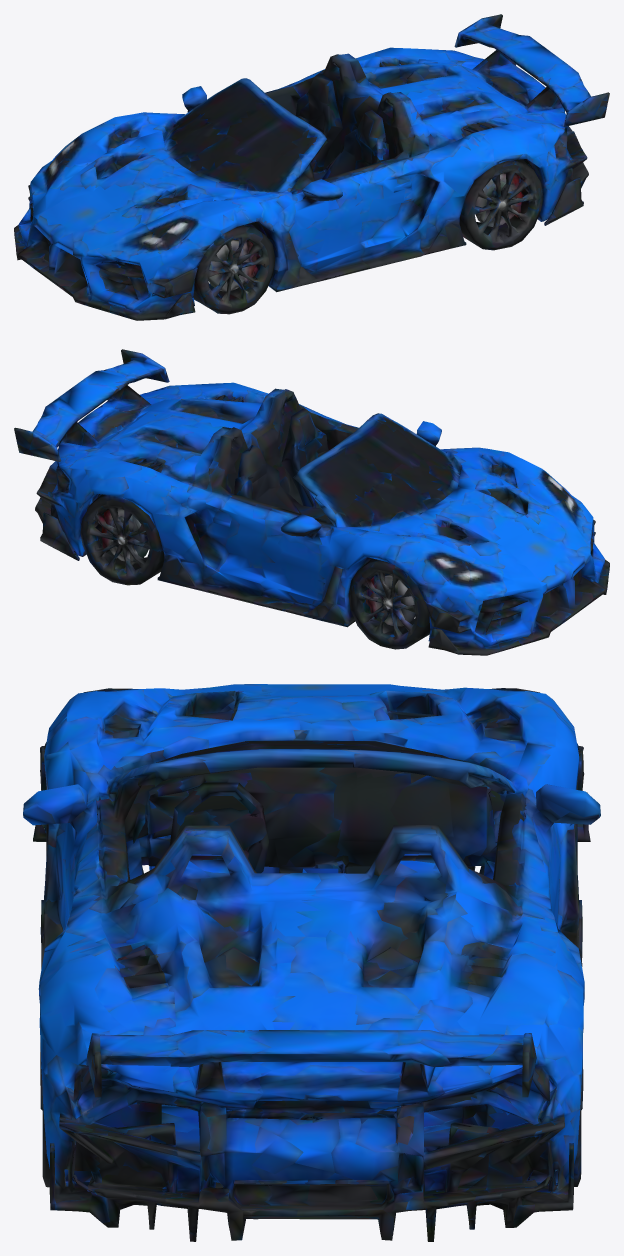
File: lamborghini-kuia-spyder.glb
3 views of the same model, one above another, from view 1: azimuth 30°, elevation 25°; view 2: azimuth 150°, elevation 25°; view 3: azimuth 270°, elevation 25° (orthographic). The views are drawn at different scales.
Size of the model in its own units: 1.9 by 0.5014 by 0.9331.
Materials: 1 (1 with a texture image).
